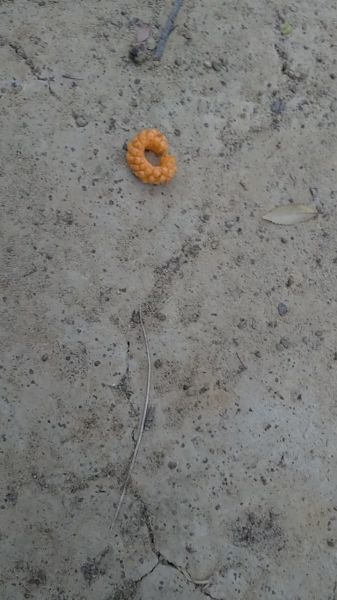eggs: (129, 125, 183, 186)
